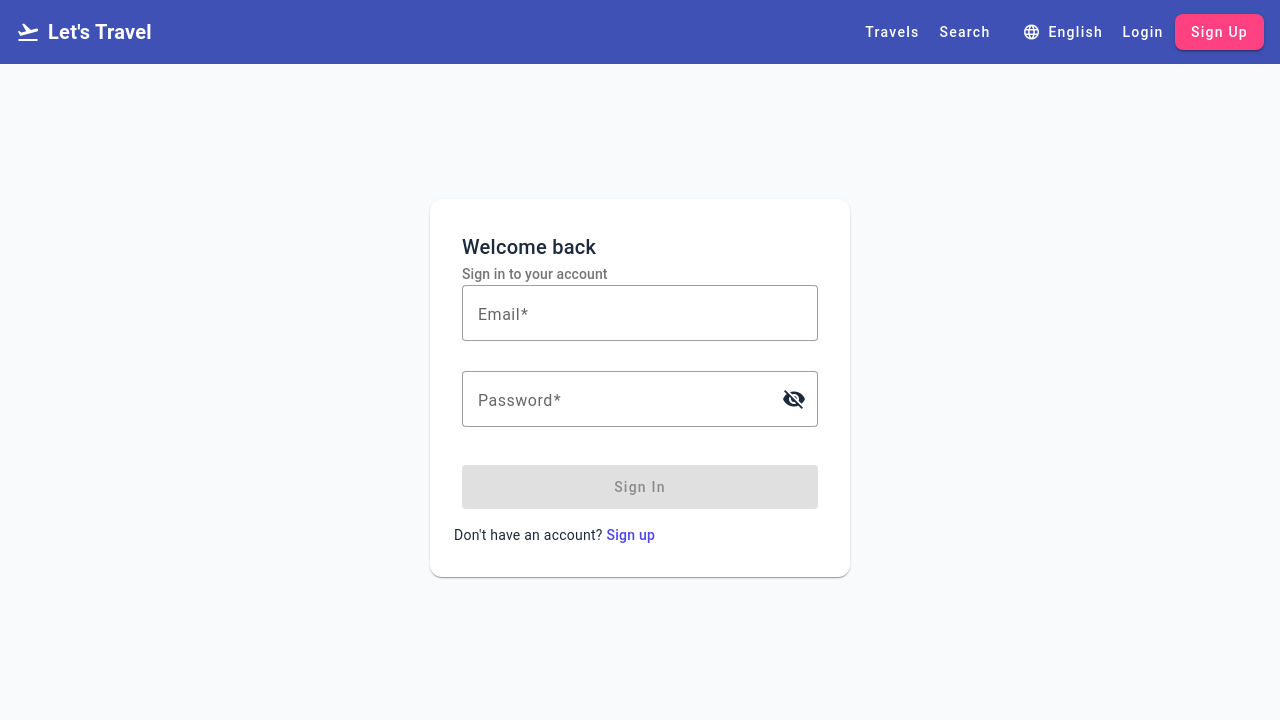
Test: Authentication › shows error for invalid credentials
This screenshot has width=1280, height=720.
Type "wrong@example.com" into the field labelled "Email".
click(640, 313); type("wrong@example.com")  # box [478,301,802,325]
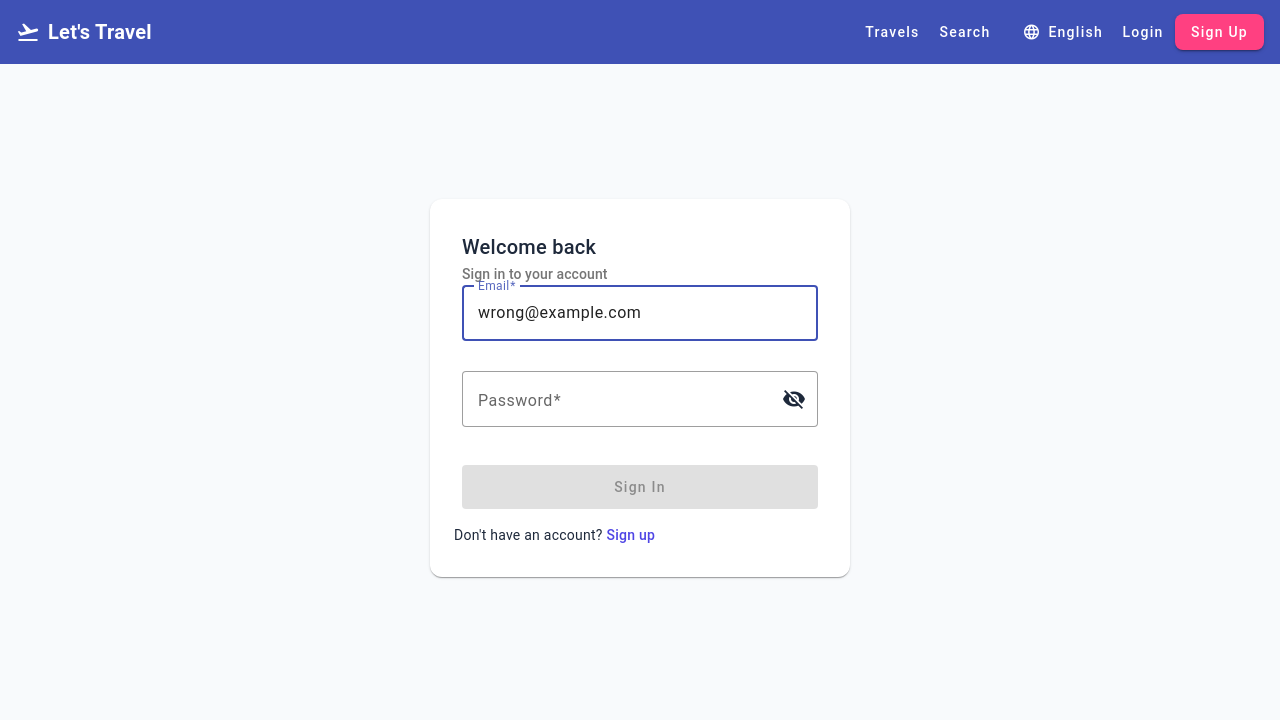
Type "wrongpassword" into the password field labelled "Password".
click(622, 399); type("wrongpassword")  # box [478,387,766,411]
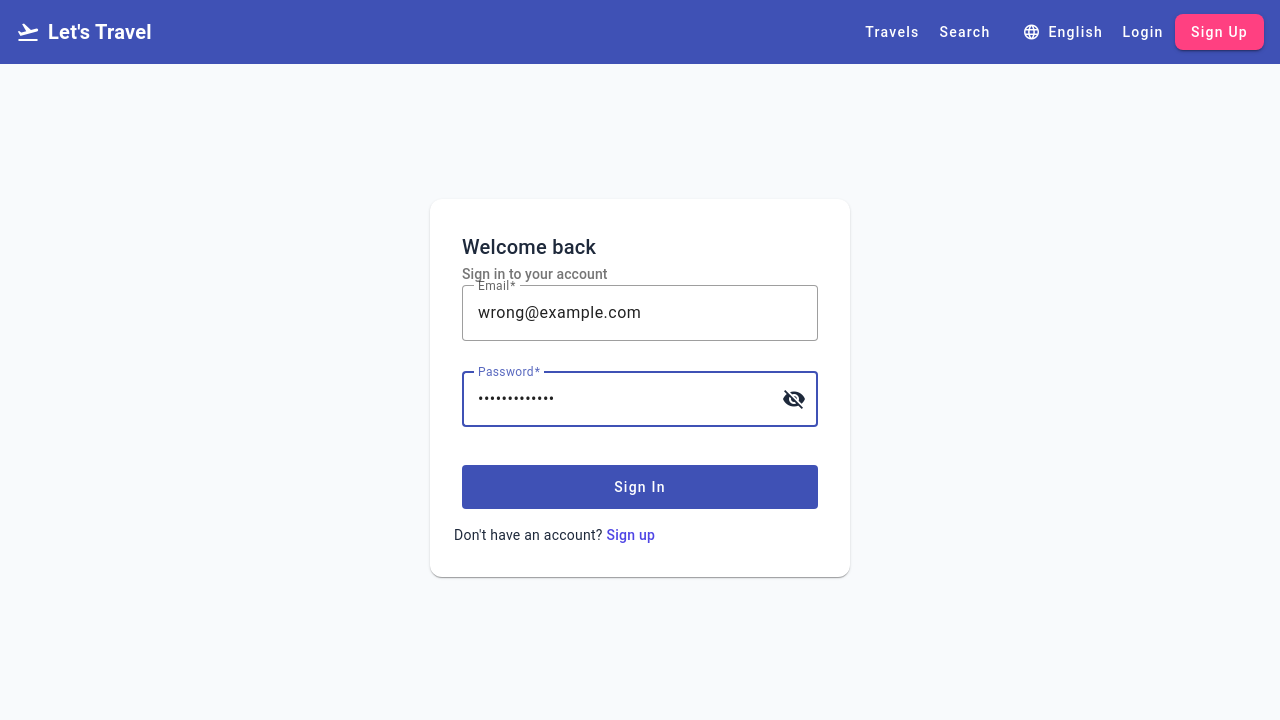
Click the submit button.
click(640, 487)  # box [462,465,818,509]
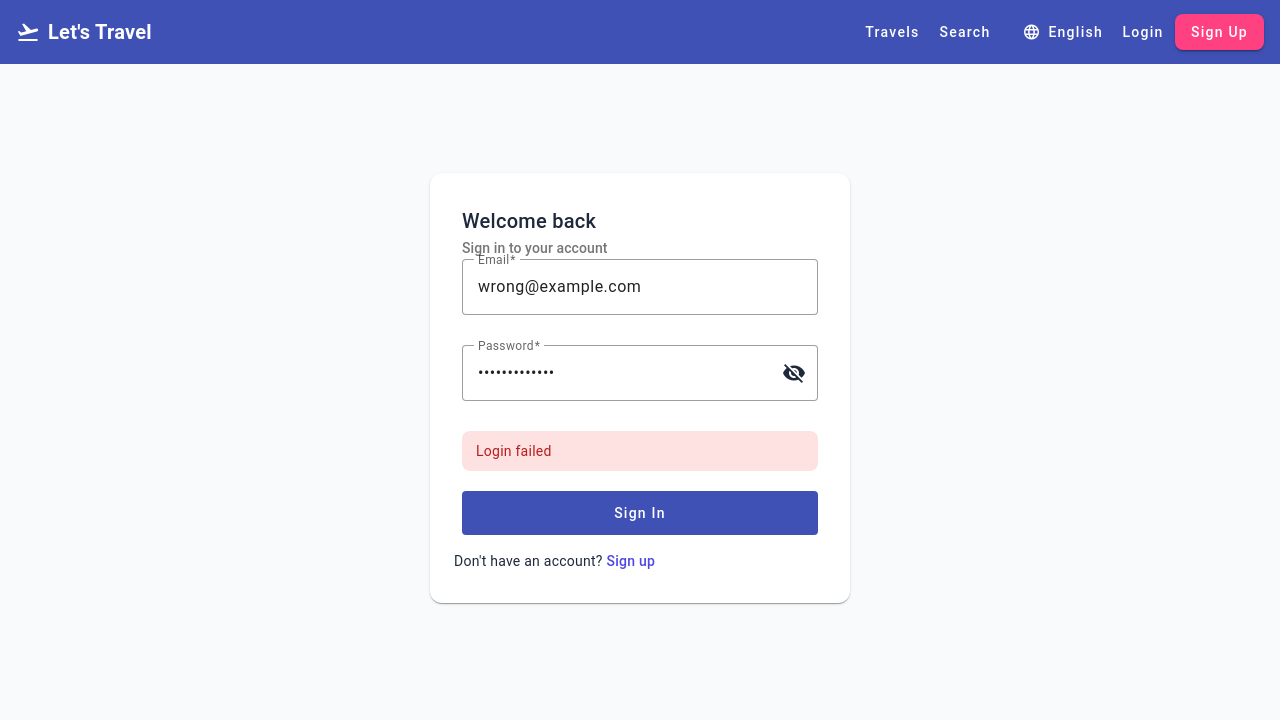
Expected: the text "Login failed" is shown, [462,431,818,471]
